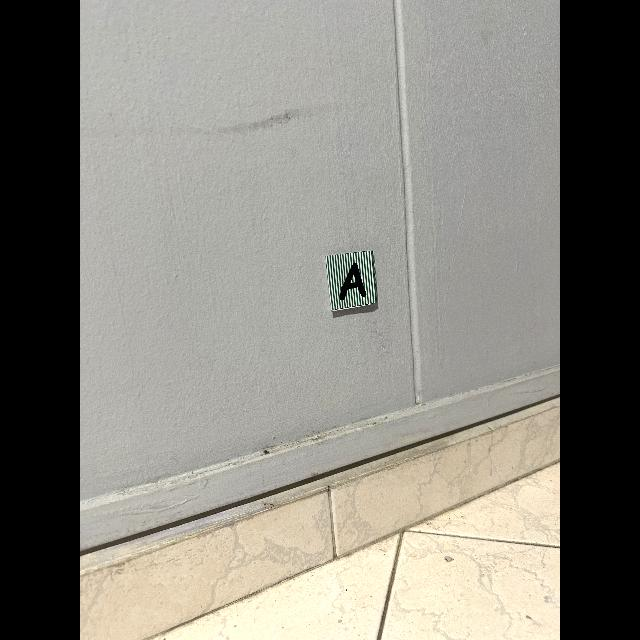A: (339, 262, 366, 300)
